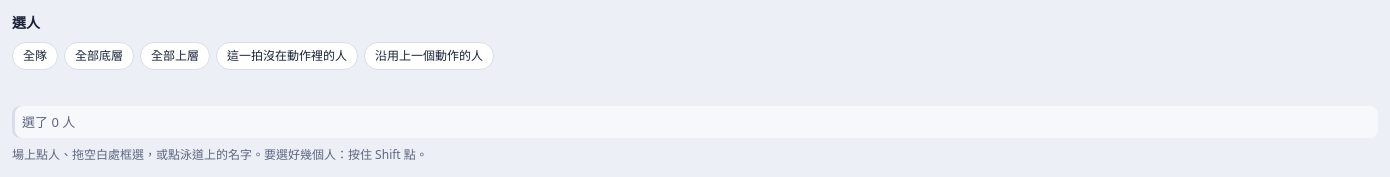
選人捷徑 › 「沿用上一個動作的人」取播放頭以前最晚結束的動作；再按一次換更早的
Click the button "沿用上一個動作的人" at [429, 56], box [364,42,494,70]
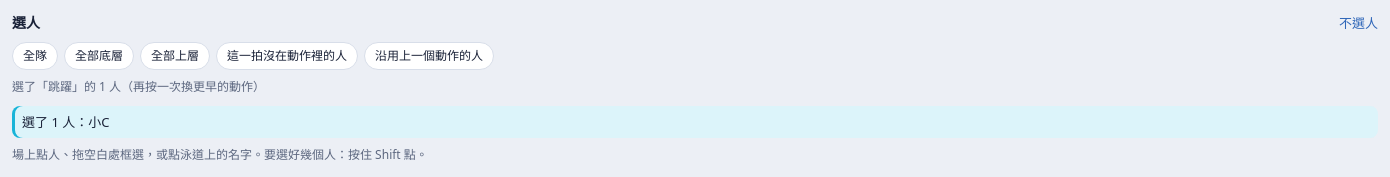
Result: the message shows "選了「跳躍」的 1 人" at [12,78,265,95]
Click the button "沿用上一個動作的人" at [429, 56], box [364,42,494,70]
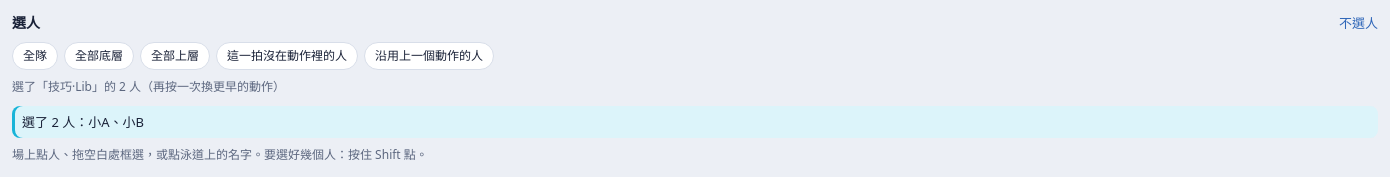
Result: the message shows "選了「技巧·Lib」的 2 人" at [12,78,285,95]
